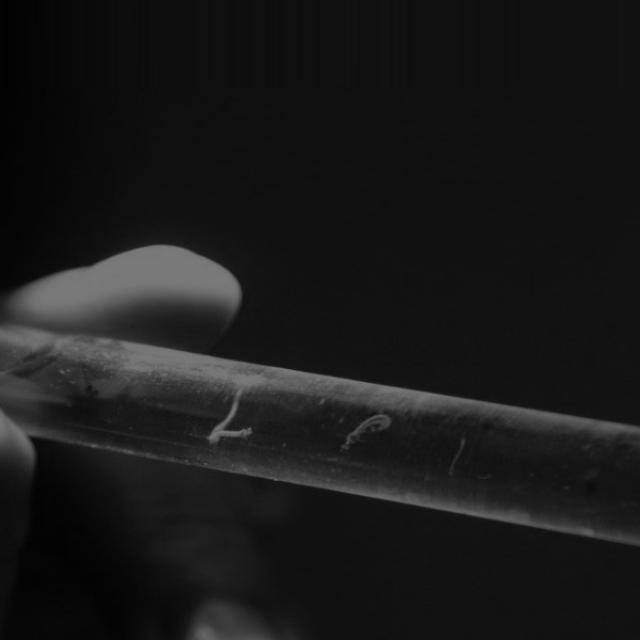larvas: (340, 414, 390, 451), (211, 396, 243, 430), (446, 438, 466, 475), (209, 428, 252, 441)
